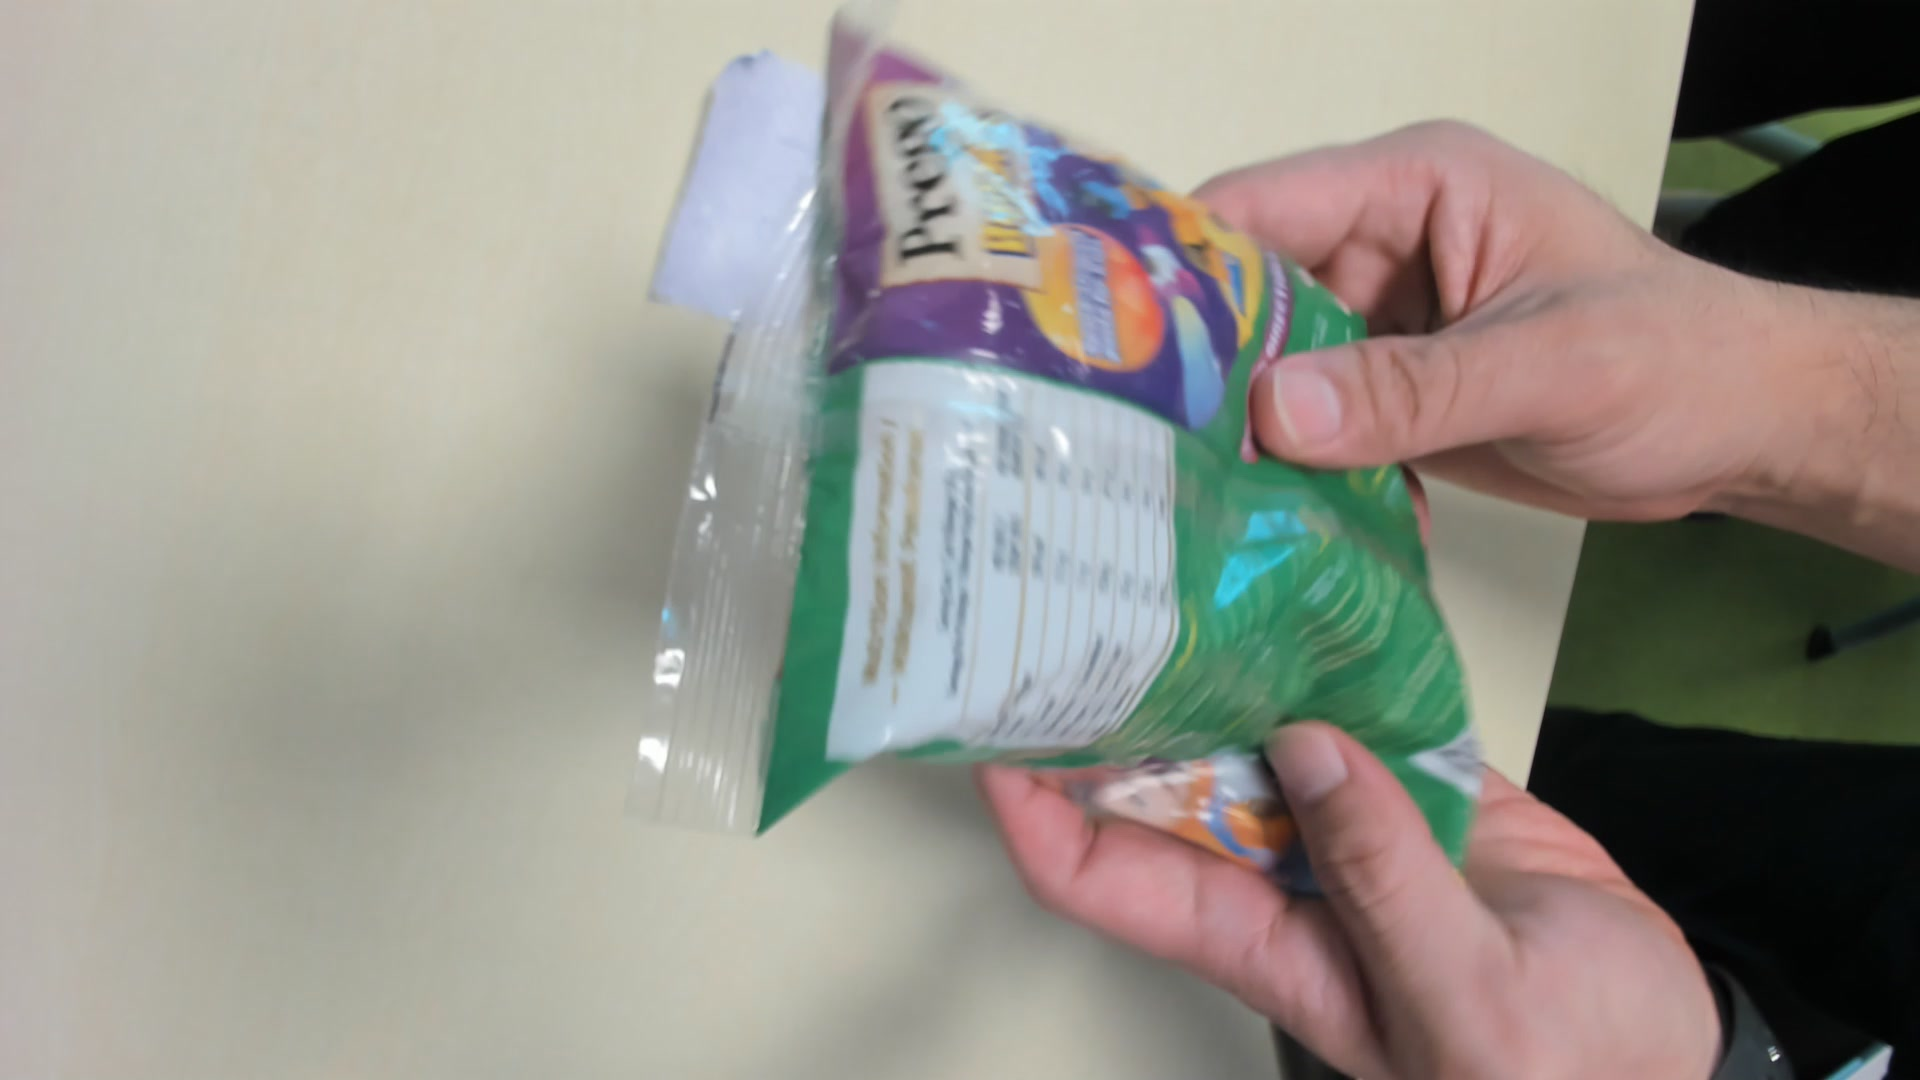Pasta_200-299g_Halal_NonHealthy: (650, 42, 1481, 878)
